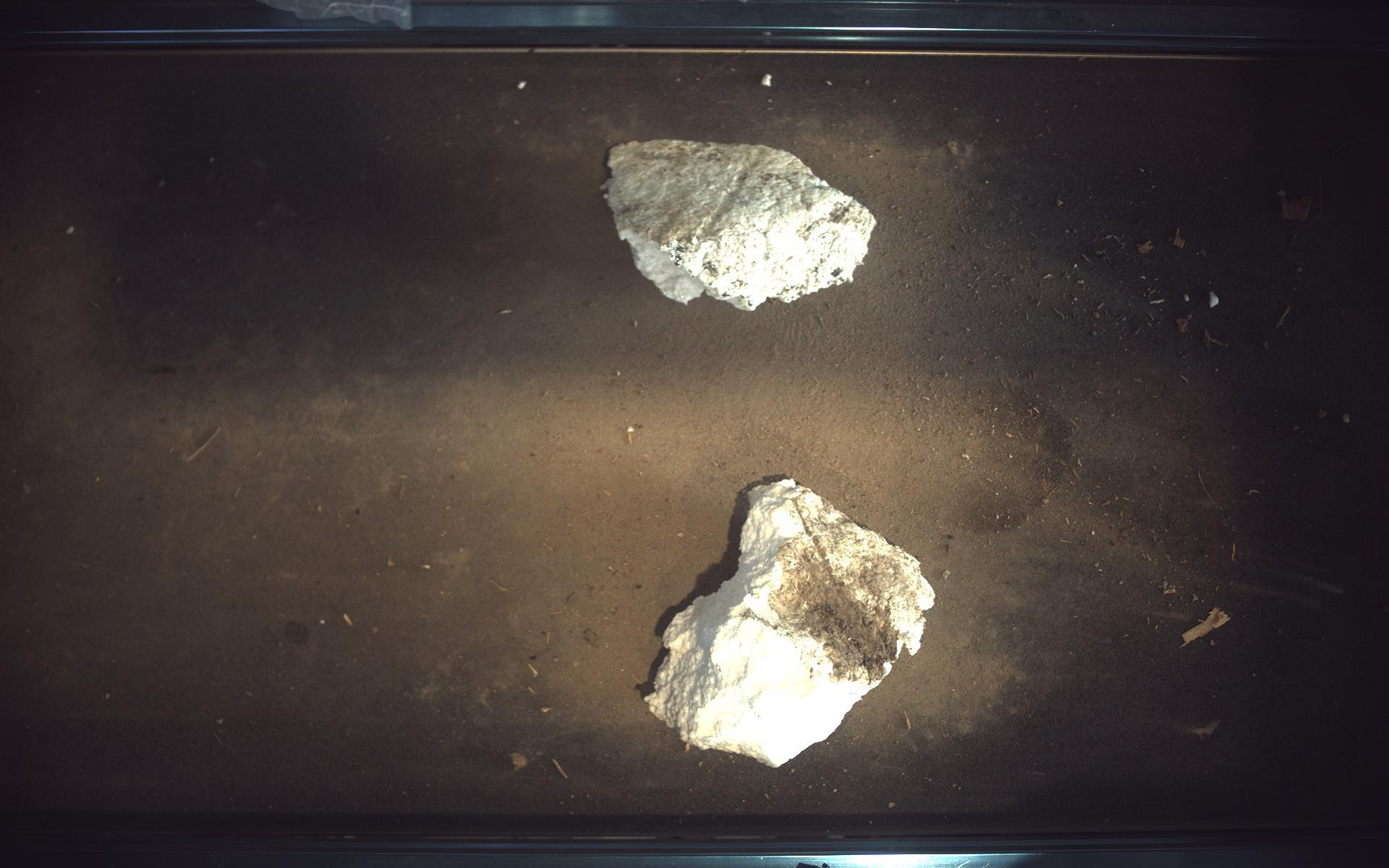foam: (647, 480, 937, 768), (602, 139, 877, 310)
